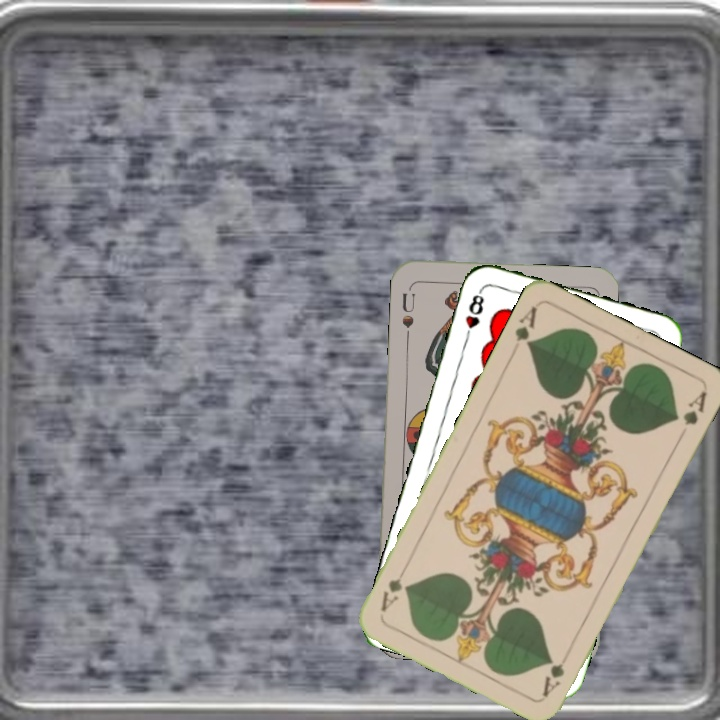GA: (538, 645, 574, 700), (510, 302, 540, 350)
H8: (461, 286, 487, 344)
SU: (398, 283, 418, 343)
